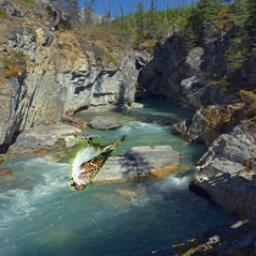Sparrow: (68, 135, 127, 191)
